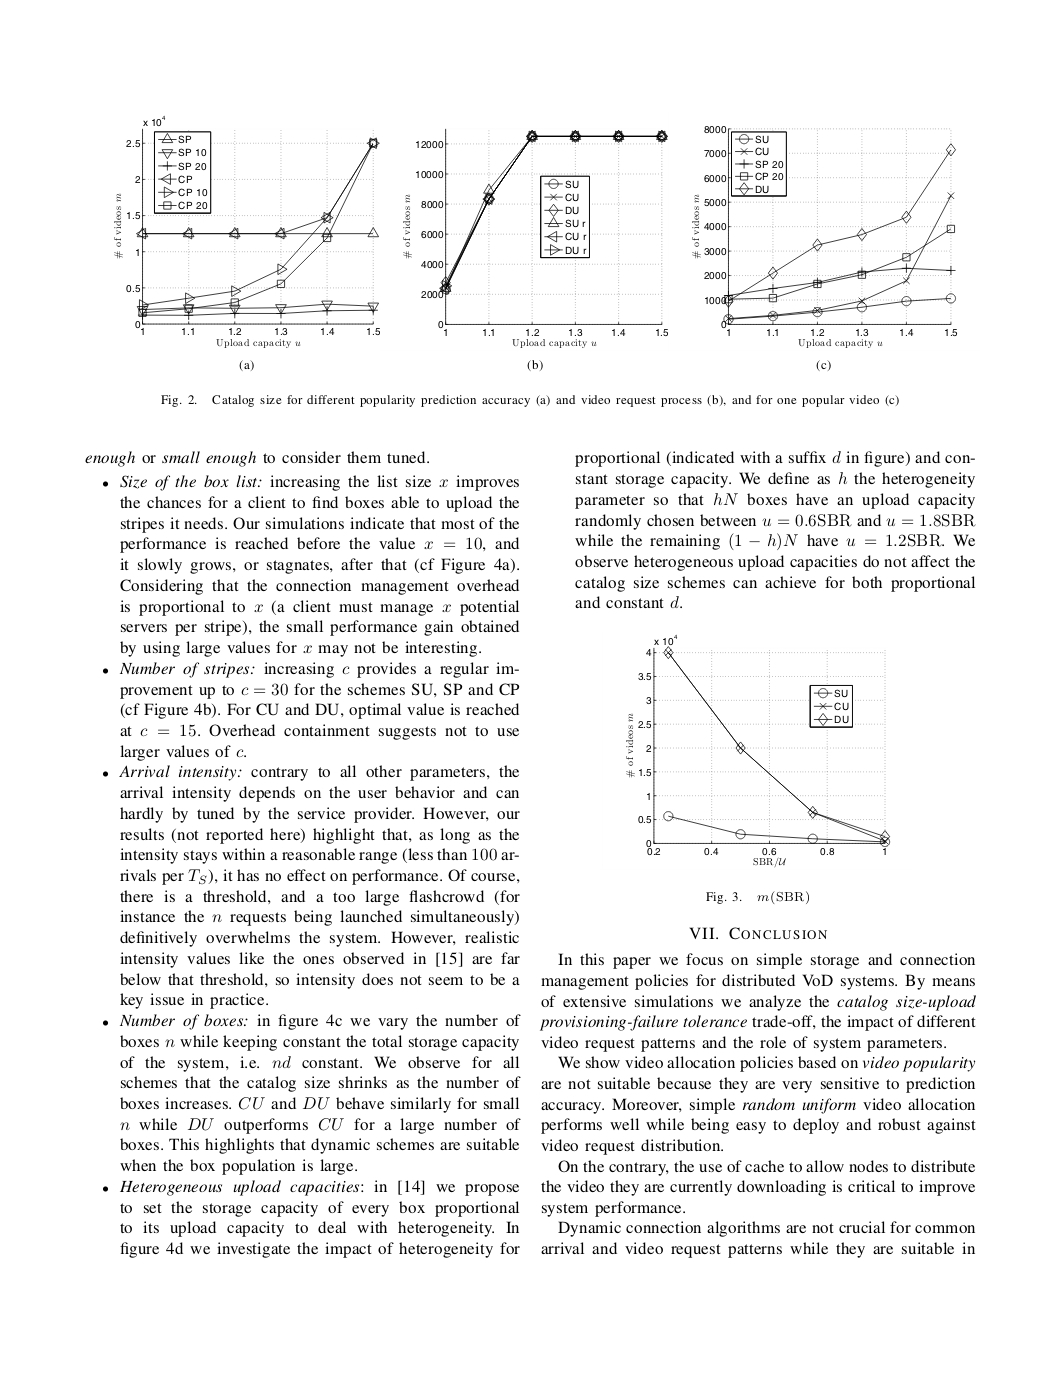figure: (626, 633, 890, 868), (114, 115, 379, 347), (692, 125, 957, 348), (403, 127, 666, 348)
